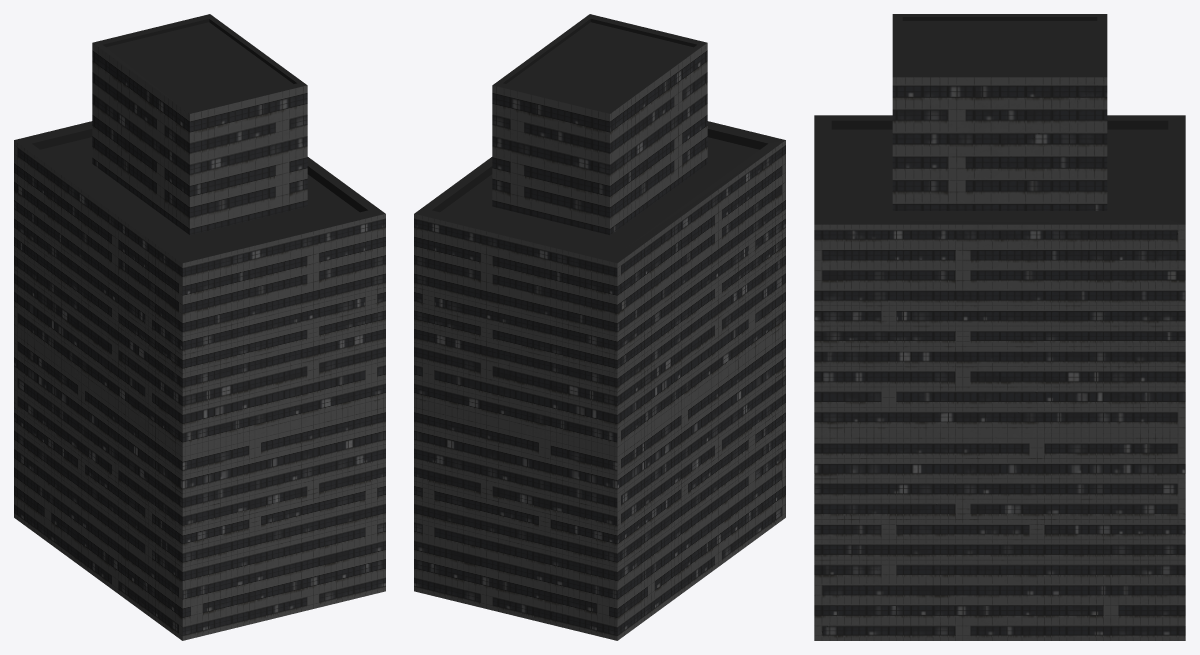
The model's file is Mesh_Chamfered-Stacked.fbx.
The picture shows the model from 3 angles, left to right: view 1: azimuth 30°, elevation 25°; view 2: azimuth 150°, elevation 25°; view 3: azimuth 270°, elevation 25°; orthographic projection. The views are drawn at different scales.
Parts seen in each view (by area): view 1: Mesh_Chamfered-Stacked; view 2: Mesh_Chamfered-Stacked; view 3: Mesh_Chamfered-Stacked.
Part boxes in pixels (bbox=[...]): Mesh_Chamfered-Stacked: bbox=[14, 14, 385, 640]; Mesh_Chamfered-Stacked: bbox=[414, 14, 785, 640]; Mesh_Chamfered-Stacked: bbox=[814, 14, 1185, 640].
Bounding box in the file's own units: 27.2 × 62.7 × 39.01.
